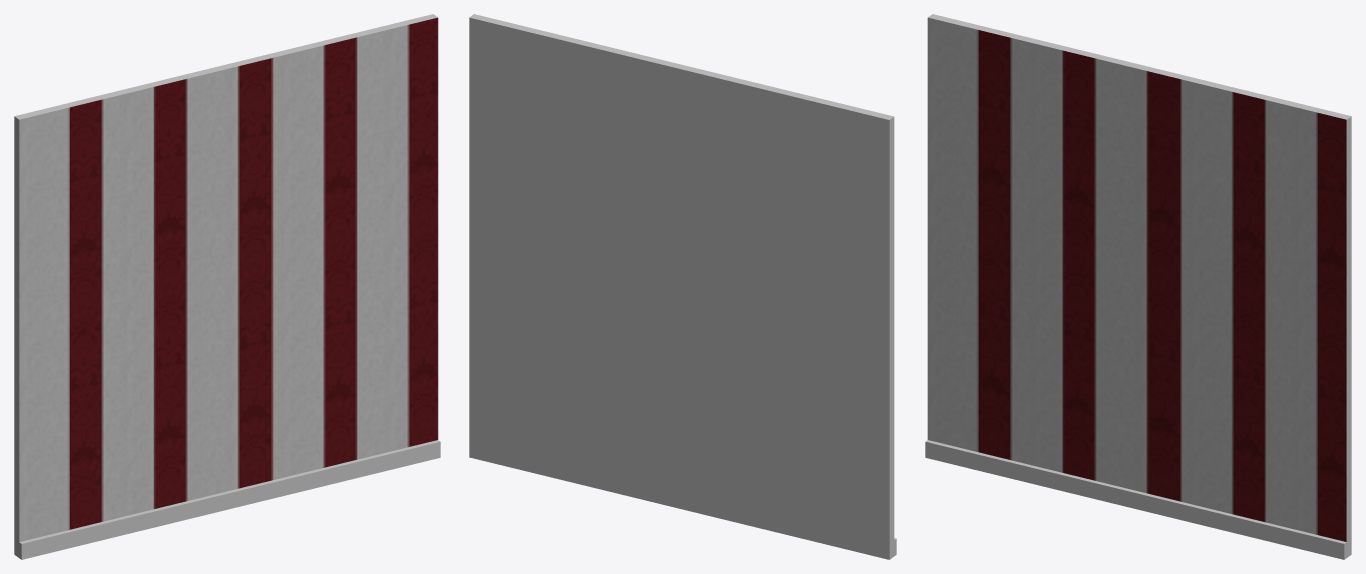
The model's file is Wall_WP_05.FBX.
The picture shows the model from 3 angles, left to right: view 1: azimuth 30°, elevation 25°; view 2: azimuth 150°, elevation 25°; view 3: azimuth 330°, elevation 25°; orthographic projection.
Visible parts, largest first — view 1: Wall_WP_01_5m; view 2: Wall_WP_01_5m; view 3: Wall_WP_01_5m.
Part boxes in pixels (bbox=[...]): Wall_WP_01_5m: bbox=[14, 14, 440, 559]; Wall_WP_01_5m: bbox=[469, 14, 896, 559]; Wall_WP_01_5m: bbox=[925, 14, 1351, 559].
Bounding box in the file's own units: 19685 × 19685 × 591.
